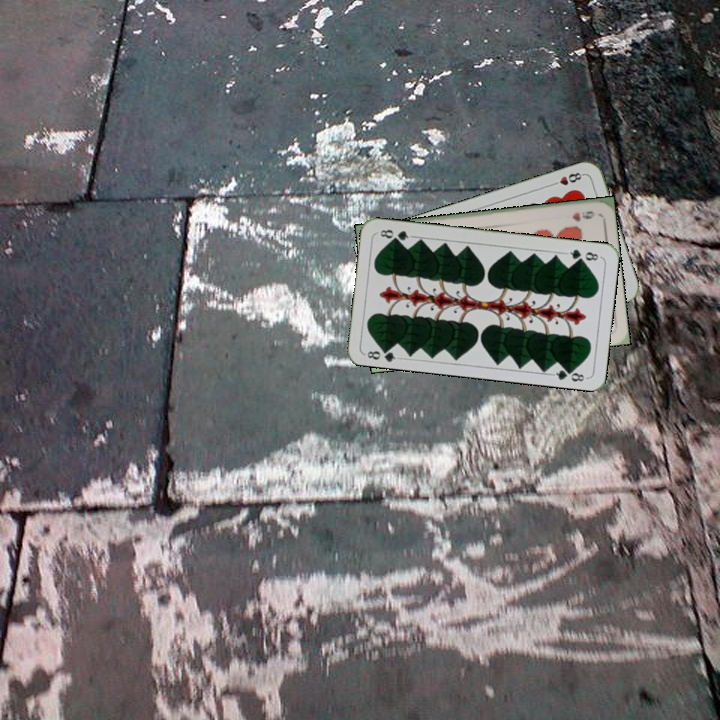G8: (361, 343, 402, 364), (562, 245, 603, 264)
H8: (547, 168, 587, 189)
H9: (568, 207, 597, 224)
